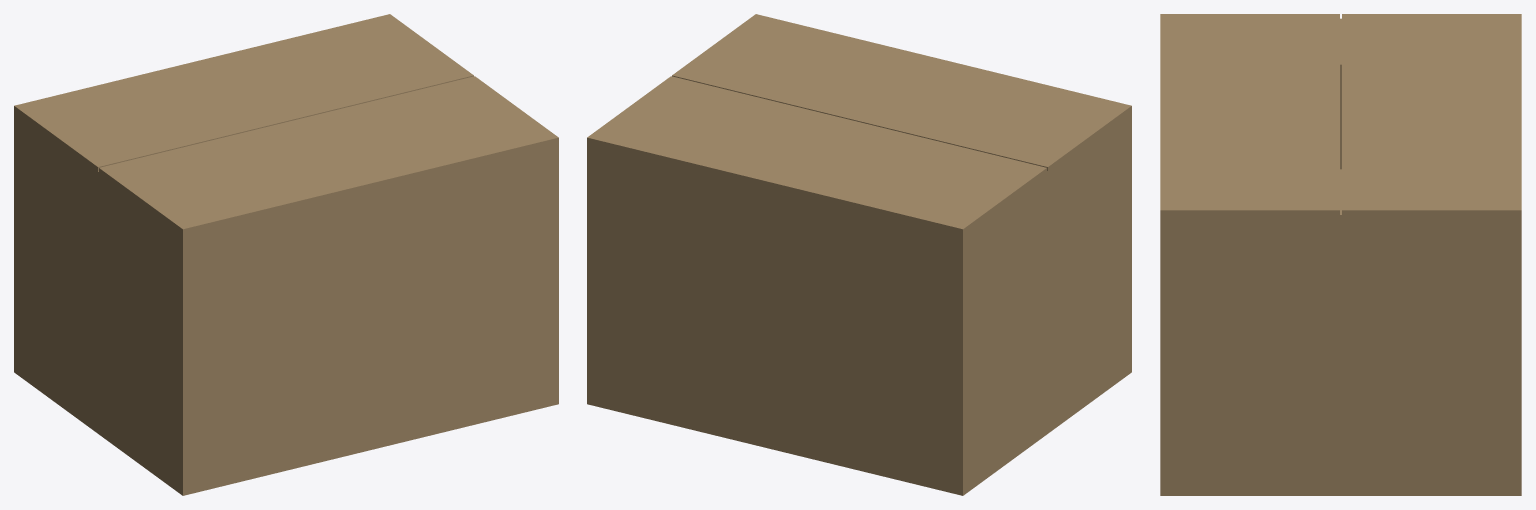
The model's file is cardboard_box.fbx.
3 views of the same model, side by side, from view 1: azimuth 30°, elevation 25°; view 2: azimuth 150°, elevation 25°; view 3: azimuth 270°, elevation 25° (orthographic). The views are drawn at different scales.
Parts seen in each view (by area): view 1: cardboard_box, cardboard_box_flapF, cardboard_box_flapB; view 2: cardboard_box, cardboard_box_flapB, cardboard_box_flapF; view 3: cardboard_box, cardboard_box_flapB, cardboard_box_flapF.
Part boxes in pixels (left/top/right/bottom): cardboard_box: left=14, top=110, right=558, bottom=495; cardboard_box_flapF: left=99, top=76, right=558, bottom=233; cardboard_box_flapB: left=14, top=14, right=473, bottom=171; cardboard_box: left=587, top=110, right=1131, bottom=495; cardboard_box_flapB: left=587, top=76, right=1046, bottom=233; cardboard_box_flapF: left=672, top=14, right=1131, bottom=171; cardboard_box: left=1160, top=18, right=1521, bottom=495; cardboard_box_flapB: left=1342, top=14, right=1521, bottom=214; cardboard_box_flapF: left=1160, top=14, right=1339, bottom=214.
Size of the model in its own units: 0.45 by 0.305 by 0.35.
